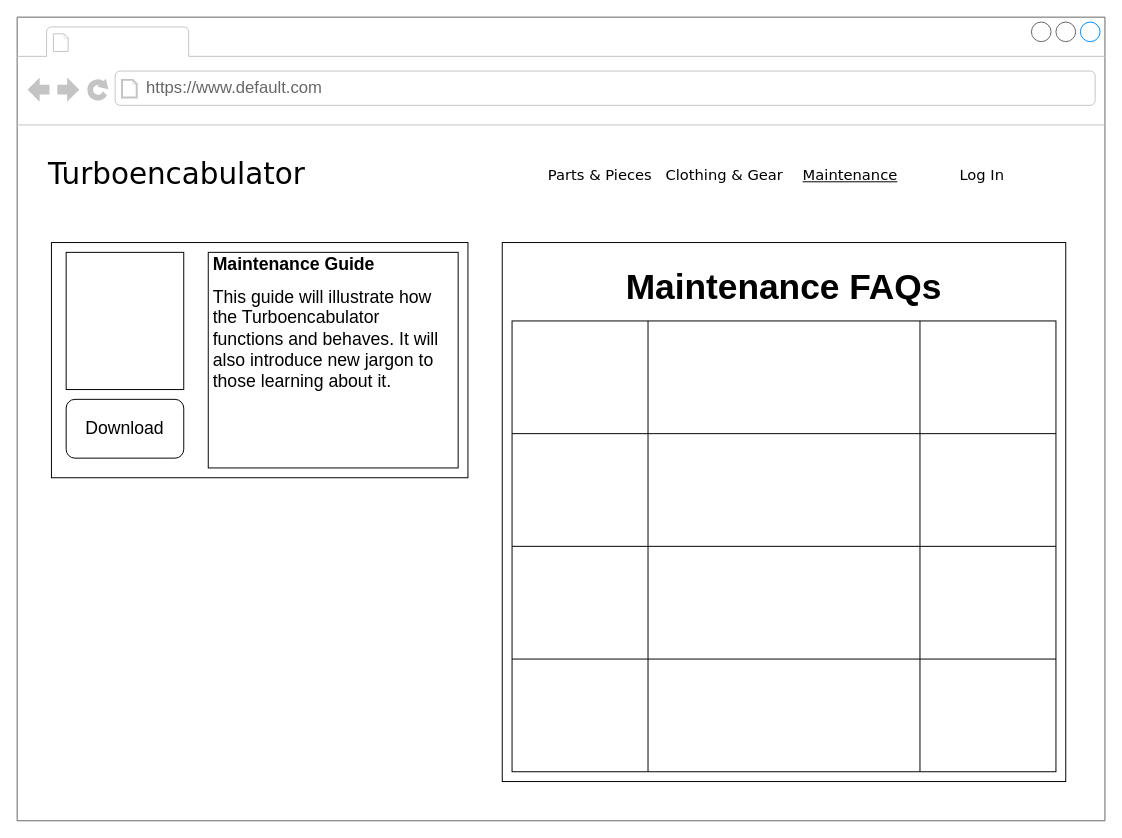
This 1122x838 diagram has some shape labels left out. The box of each missing label's shape, as (x1, y1, x2, y2) in pixels:
Downloadable Page: (65, 251, 184, 390)
Page 1: (75, 28, 184, 54)
